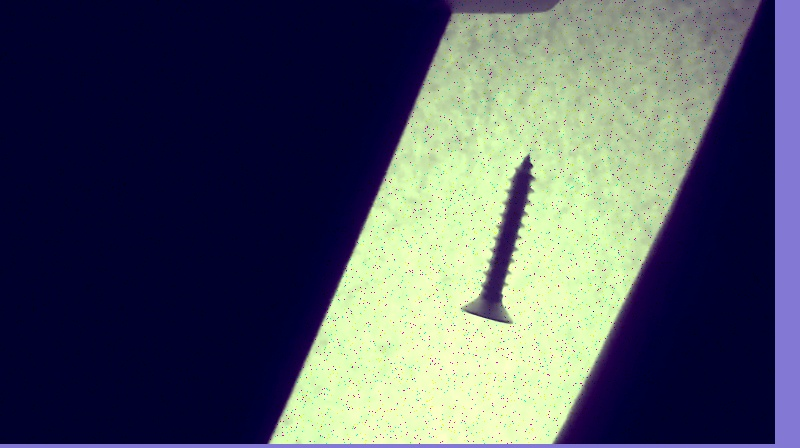S001: (454, 147, 539, 328)
